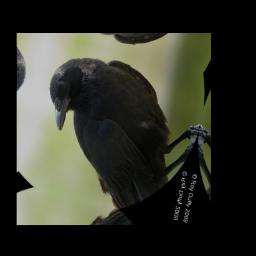Crow: (29, 44, 209, 224)
